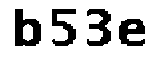3: (81, 4, 118, 52)
5: (49, 7, 78, 50)
b: (11, 6, 43, 49)
e: (115, 17, 152, 53)
